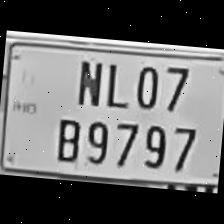0: (128, 58, 162, 110)
7: (165, 121, 199, 174), (158, 61, 190, 114), (108, 115, 139, 169)
9: (138, 118, 169, 169), (80, 114, 111, 164)
B: (52, 112, 83, 162)
L: (100, 58, 131, 110)
N: (70, 55, 105, 109)
